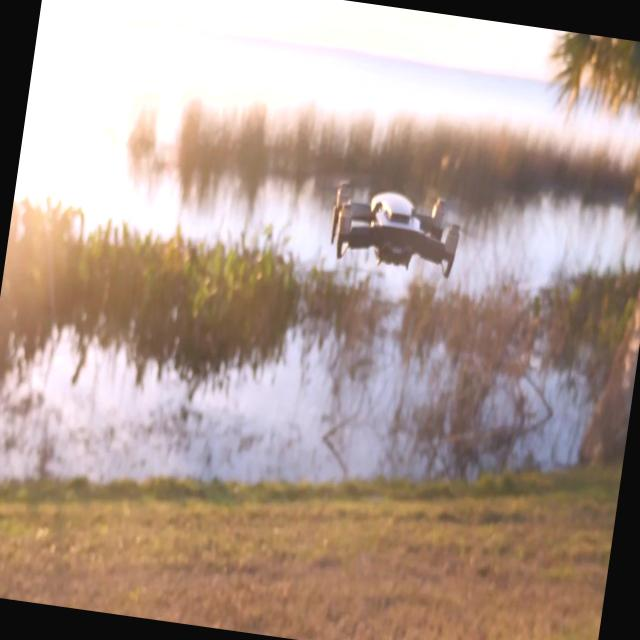drone: (320, 175, 470, 285)
